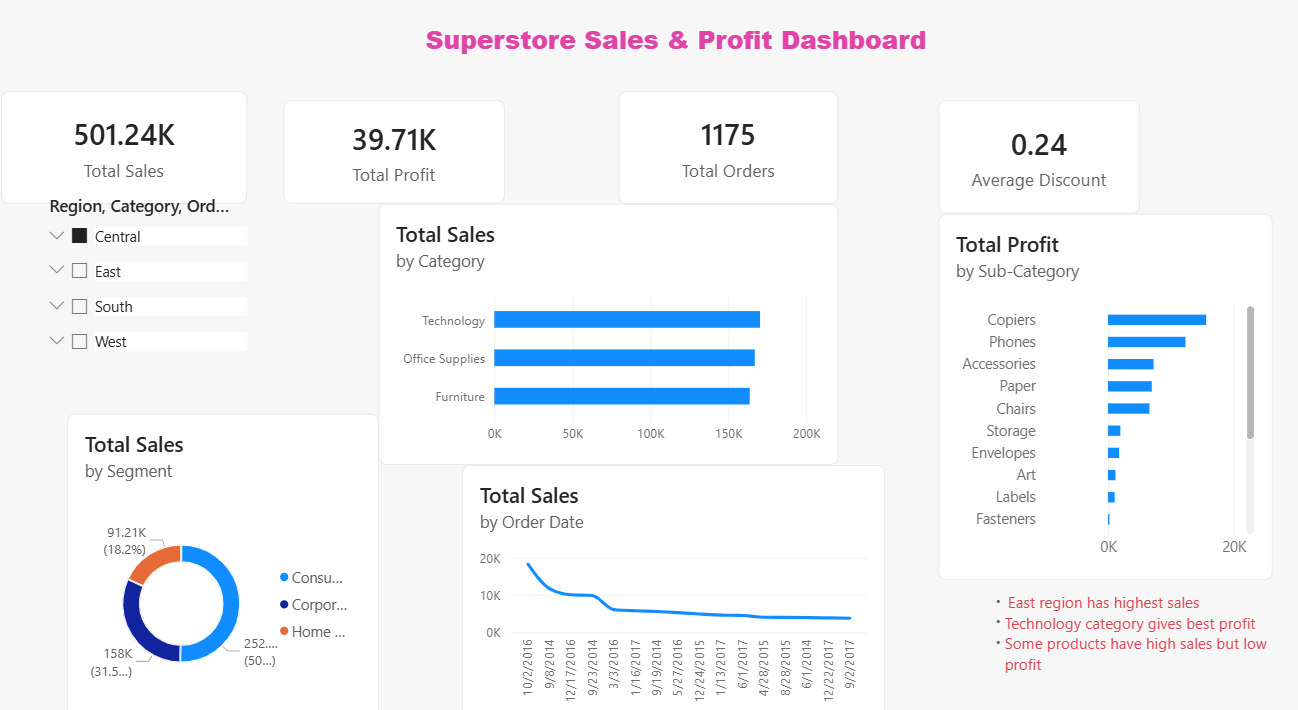

This screenshot's page, from the dashboard's own definition file:
{"tool":"powerbi","page":{"name":"Page 1","canvas":[1280,720],"ordinal":0},"visuals":[{"type":"card","fields":{"Values":["Products _Sales.Total Sales"]},"box":[9.7,92.9,237.7,108.6],"z":0},{"type":"card","fields":{"Values":["Products _Sales.Total Orders"]},"box":[605.6,92.9,212.3,108.6],"z":1000},{"type":"card","fields":{"Values":["Products _Sales.Total Profit"]},"box":[282.3,101.3,213.5,100.1],"z":2000},{"type":"card","fields":{"Values":["Products _Sales.Average Discount"]},"box":[914.5,101.3,194.2,109.8],"z":3000},{"type":"lineChart","fields":{"Category":["Products _Sales.Order Date"],"Y":["Products _Sales.Total Sales"]},"box":[454.8,453.6,407.8,266.6],"z":4000},{"type":"clusteredBarChart","fields":{"Y":["Products _Sales.Total Sales"],"Category":["Products _Sales.Category"]},"box":[374,201.5,444,252.1],"z":5000},{"type":"clusteredBarChart","fields":{"Category":["Products _Sales.Sub-Category"],"Y":["Products _Sales.Total Profit"]},"box":[914.5,211.1,322.1,353.5],"z":6000},{"type":"donutChart","fields":{"Category":["Products _Sales.Segment"],"Y":["Products _Sales.Total Sales"]},"box":[73.6,404.2,300.4,302.8],"z":7000},{"type":"slicer","fields":{"Values":["Products _Sales.Region","Products _Sales.Category","Products _Sales.Order Date","Products _Sales.Segment"]},"box":[48,192.1,199,193.5],"z":8000},{"type":"textbox","box":[319.7,25.3,682.8,53.1],"z":8001},{"type":"textbox","box":[960.3,575.5,276.3,107.4],"z":8002}]}

Visuals, with their boxes in screenshot pixels (x1, y1, x2, y2), scaled from the page's 1280x720 canvas onto the 1298x710 screenshot:
card - Products _Sales.Total Sales: [x1=10, y1=92, x2=251, y2=199]
card - Products _Sales.Total Orders: [x1=614, y1=92, x2=829, y2=199]
card - Products _Sales.Total Profit: [x1=286, y1=100, x2=503, y2=199]
card - Products _Sales.Average Discount: [x1=927, y1=100, x2=1124, y2=208]
lineChart - Products _Sales.Order Date x Products _Sales.Total Sales: [x1=461, y1=447, x2=875, y2=709]
clusteredBarChart - Products _Sales.Total Sales x Products _Sales.Category: [x1=379, y1=199, x2=830, y2=447]
clusteredBarChart - Products _Sales.Sub-Category x Products _Sales.Total Profit: [x1=927, y1=208, x2=1254, y2=557]
donutChart - Products _Sales.Segment x Products _Sales.Total Sales: [x1=75, y1=399, x2=379, y2=697]
slicer - Products _Sales.Region x Products _Sales.Category: [x1=49, y1=189, x2=250, y2=380]
textbox: [x1=324, y1=25, x2=1017, y2=77]
textbox: [x1=974, y1=568, x2=1254, y2=673]
